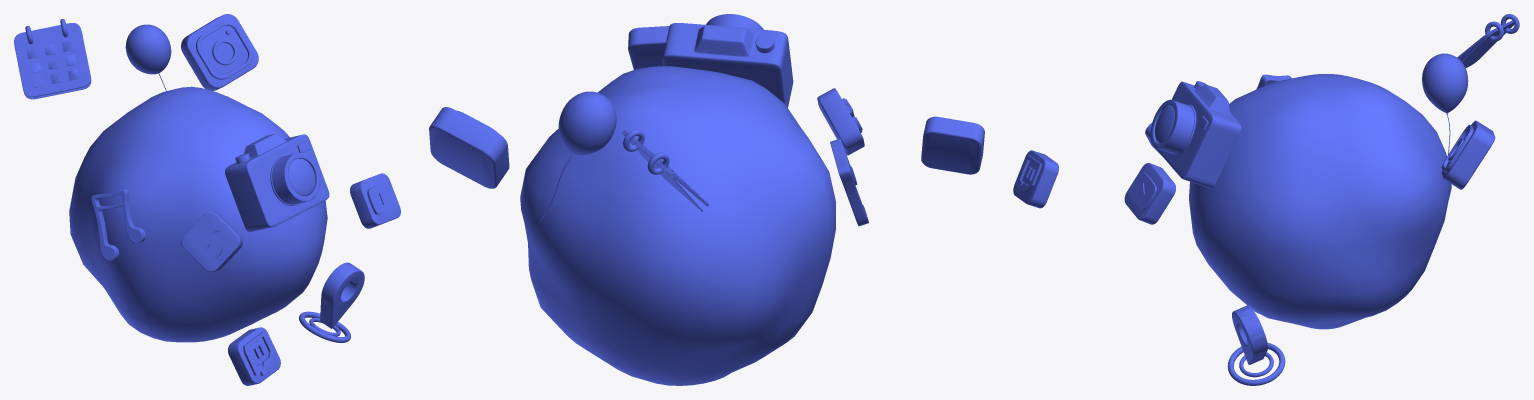
File: eventCluster.glb
The picture shows the model from 3 angles, left to right: view 1: azimuth 30°, elevation 25°; view 2: azimuth 150°, elevation 25°; view 3: azimuth 270°, elevation 25°; orthographic projection. The views are drawn at different scales.
Visible parts, largest first — view 1: blob, camera, Plane.003, background.004, mapPin, background, Sphere.001, background.007, musicNote, background.005, inner.003, outer.002 (+2 smaller); view 2: blob, camera, background.004, background.007, Sphere.001, background, background.005, musicNote, Plane.003, Torus.002; view 3: blob, camera, mapPin, Sphere.001, background.004, background.005, background.007, Plane.003, outer.002, inner.003, inner.004, Torus.002.
Boxes of the visible parts, x1,y1,x2,y2 form: blob: (69, 86, 327, 342); camera: (225, 133, 329, 232); Plane.003: (14, 23, 91, 99); background.004: (181, 14, 258, 90); mapPin: (299, 262, 364, 342); background: (181, 212, 242, 271); Sphere.001: (125, 24, 171, 74); background.007: (228, 327, 280, 385); musicNote: (91, 189, 145, 260); background.005: (350, 173, 400, 228); inner.003: (196, 22, 252, 79); outer.002: (367, 182, 397, 214); blob: (520, 66, 835, 385); camera: (662, 14, 793, 107); background.004: (429, 107, 509, 188); background.007: (921, 116, 984, 174); Sphere.001: (558, 91, 616, 155); background: (817, 88, 864, 155); background.005: (628, 26, 669, 69); musicNote: (830, 138, 868, 226); Plane.003: (622, 130, 708, 211); Torus.002: (623, 129, 669, 174); blob: (1189, 74, 1451, 329); camera: (1150, 81, 1241, 188); mapPin: (1227, 305, 1285, 385); Sphere.001: (1422, 53, 1468, 114); background.004: (1441, 120, 1495, 189); background.005: (1124, 163, 1175, 224); background.007: (1013, 150, 1058, 208); Plane.003: (1457, 20, 1514, 67); outer.002: (1128, 172, 1156, 209); inner.003: (1441, 124, 1473, 172); inner.004: (1014, 154, 1042, 193); Torus.002: (1485, 14, 1519, 41).
Bounding box in the file's own units: 1.16 × 1.17 × 1.92.
